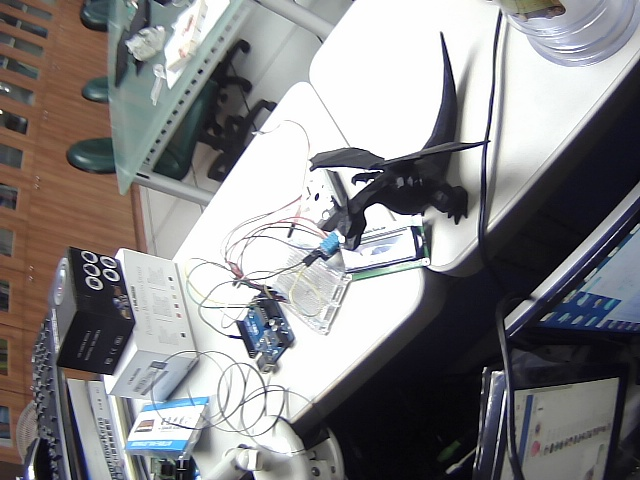charizard: (305, 30, 500, 258)
